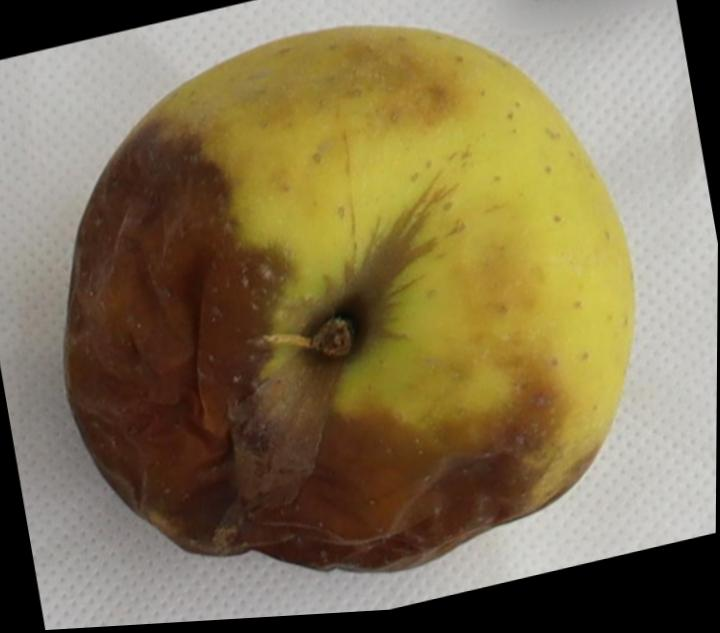apple: (64, 25, 633, 569)
rot_mold_decay: (65, 123, 599, 569)
